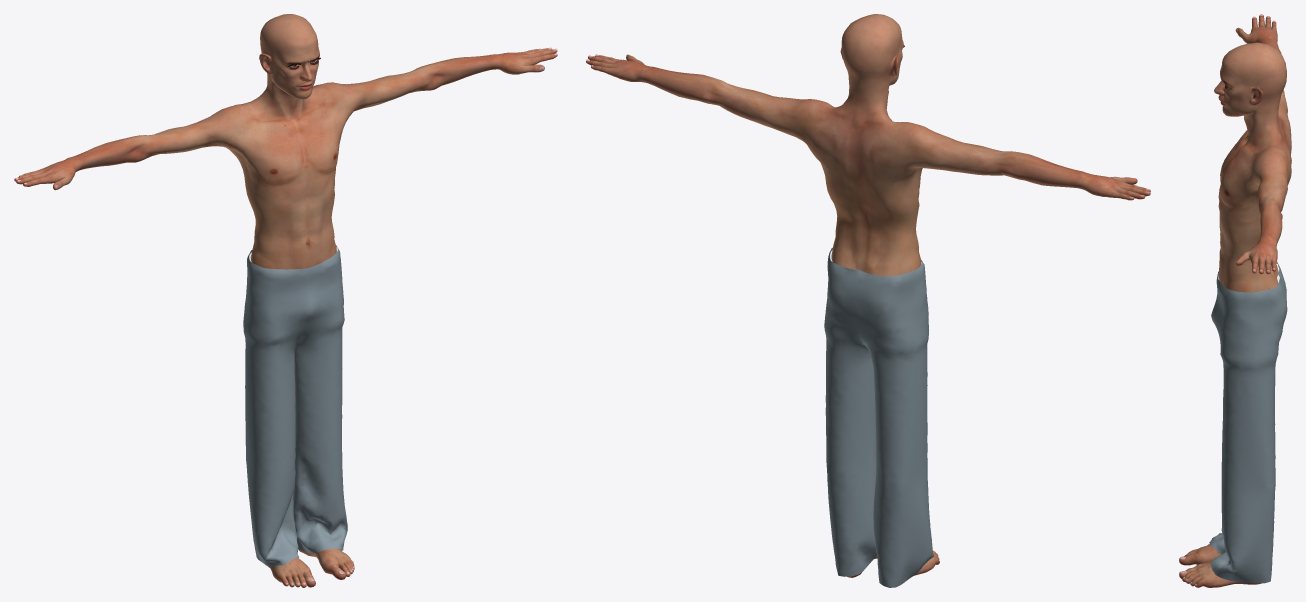
3 views of the same model, side by side, from view 1: azimuth 30°, elevation 25°; view 2: azimuth 150°, elevation 25°; view 3: azimuth 270°, elevation 25° (orthographic). The views are drawn at different scales.
Parts seen in each view (by area): view 1: CC_Base_Body, Pattern2D_8668, Pattern2D_8669, Pattern2D_8670; view 2: CC_Base_Body, Pattern2D_8671, Pattern2D_8670, Pattern2D_8668; view 3: CC_Base_Body, Pattern2D_8669, Pattern2D_8670, Pattern2D_8668, Pattern2D_8671.
Part boxes in pixels (<box>): CC_Base_Body: <box>14,14,557,587</box>; Pattern2D_8668: <box>244,261,310,567</box>; Pattern2D_8669: <box>294,245,347,553</box>; Pattern2D_8670: <box>293,349,311,553</box>; CC_Base_Body: <box>586,14,1150,582</box>; Pattern2D_8671: <box>854,270,916,587</box>; Pattern2D_8670: <box>824,249,876,576</box>; Pattern2D_8668: <box>905,260,933,581</box>; CC_Base_Body: <box>1179,14,1291,587</box>; Pattern2D_8669: <box>1211,277,1259,582</box>; Pattern2D_8670: <box>1251,276,1287,583</box>; Pattern2D_8668: <box>1209,271,1225,554</box>; Pattern2D_8671: <box>1274,262,1286,458</box>.
Size of the model in its own units: 1.84 by 1.76 by 0.34.
18 materials, 13 textured.
